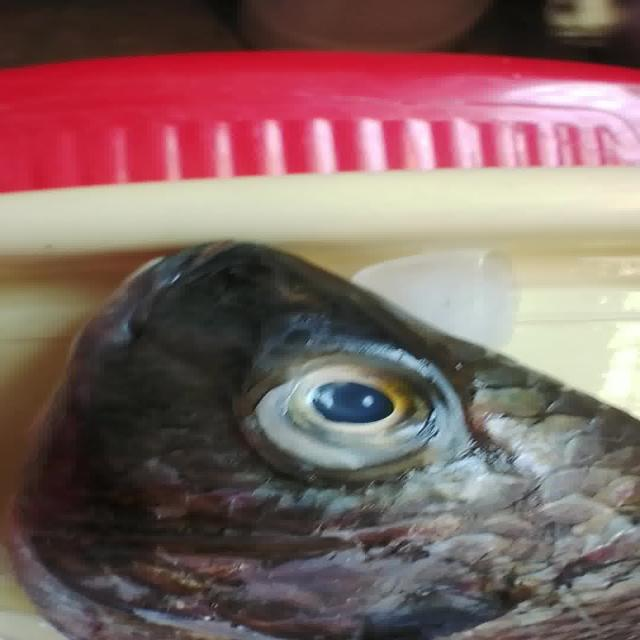Fresh: (238, 338, 482, 477)
